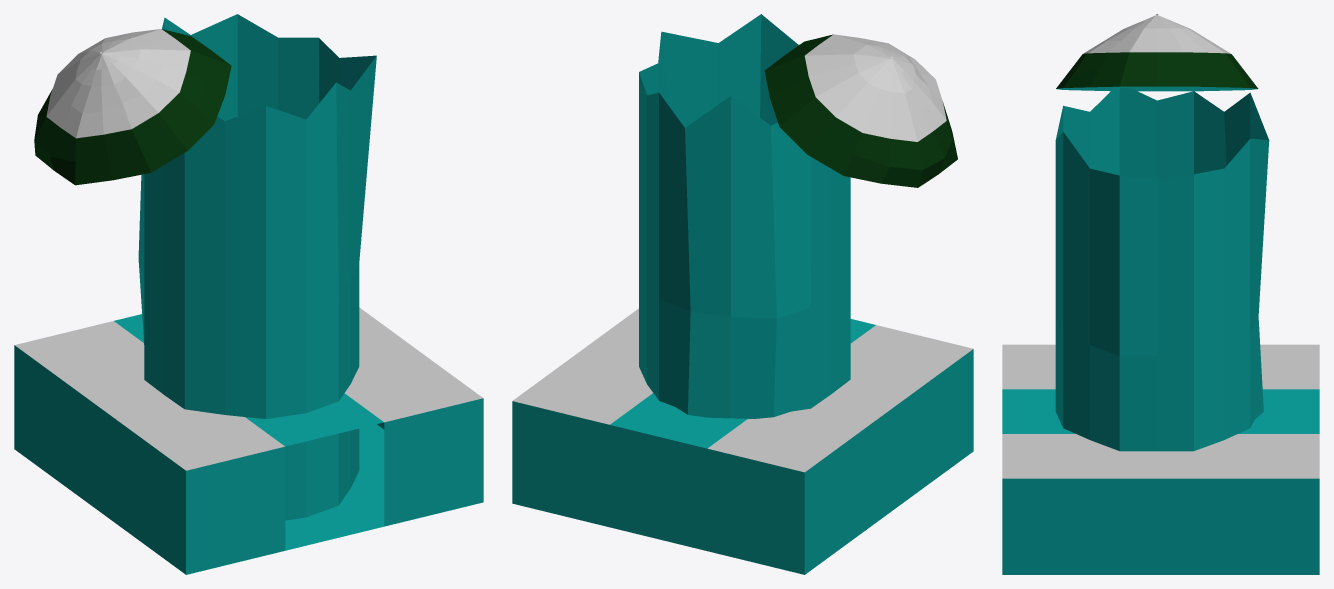
The model's file is Stockpile1d.obj.
The picture shows the model from 3 angles, left to right: view 1: azimuth 30°, elevation 25°; view 2: azimuth 150°, elevation 25°; view 3: azimuth 270°, elevation 25°; orthographic projection. The views are drawn at different scales.
Visible parts, largest first — view 1: Cube.001, Cube, Cube.002; view 2: Cube, Cube.001, Cube.002; view 3: Cube.001, Cube, Cube.002.
Part boxes in pixels (x1,y1,x2,y2): Cube.001: (138, 14, 376, 520); Cube: (14, 307, 483, 574); Cube.002: (34, 29, 231, 185); Cube: (512, 308, 973, 574); Cube.001: (639, 14, 850, 418); Cube.002: (764, 34, 957, 187); Cube.001: (1055, 88, 1269, 451); Cube: (1002, 344, 1319, 574); Cube.002: (1056, 14, 1258, 91).
Size of the model in its own units: 0.8438 by 1.07 by 0.7159.
